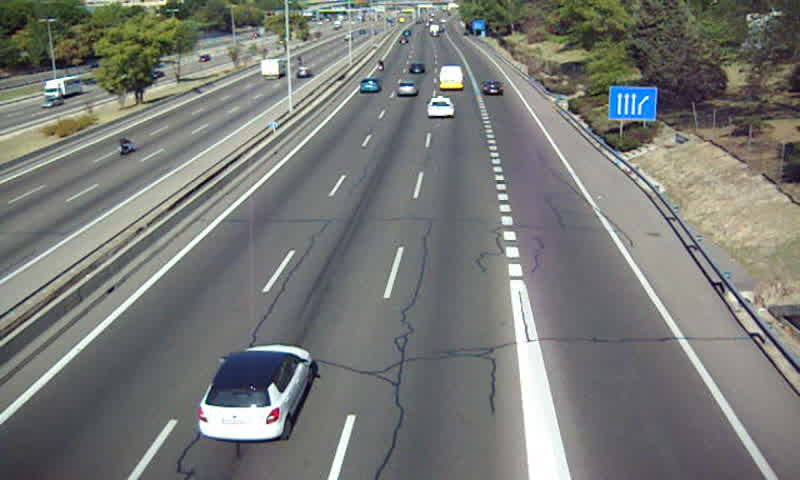car: (198, 345, 313, 440), (425, 97, 456, 118), (396, 82, 418, 98), (480, 81, 503, 96), (360, 78, 378, 95), (407, 62, 426, 74)
van: (438, 66, 464, 91)
